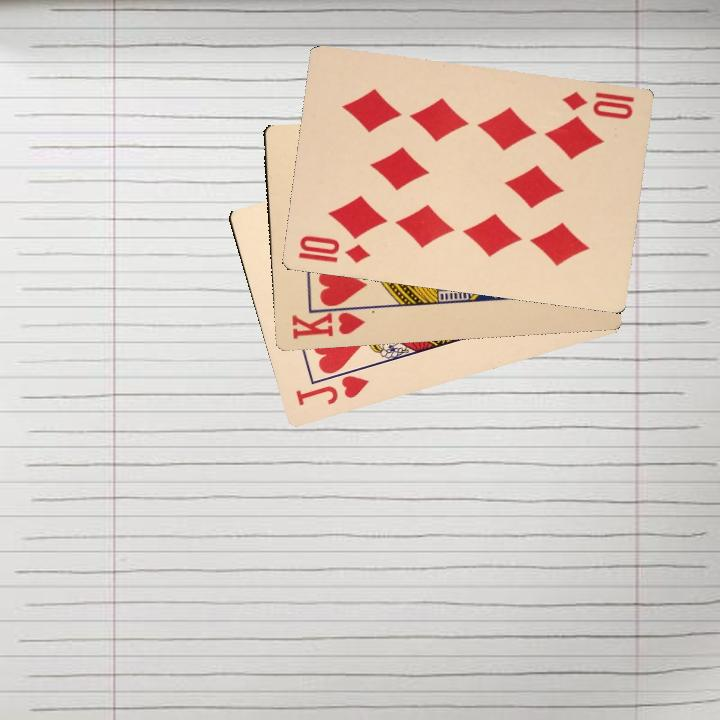10d: (558, 87, 637, 122), (295, 231, 373, 266)
Jh: (291, 362, 372, 408)
Kh: (288, 302, 368, 342)
